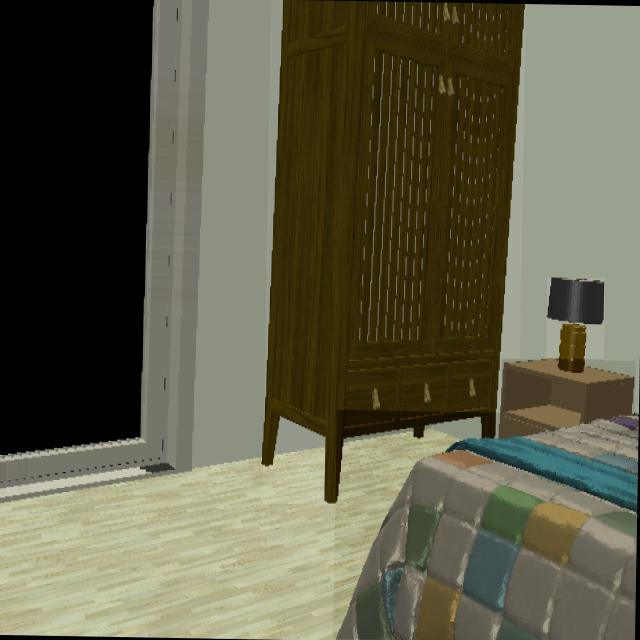bed: (333, 415, 638, 640)
lamp: (546, 278, 605, 373)
nighttable: (500, 359, 635, 440)
wardrobe: (262, 0, 526, 504)
